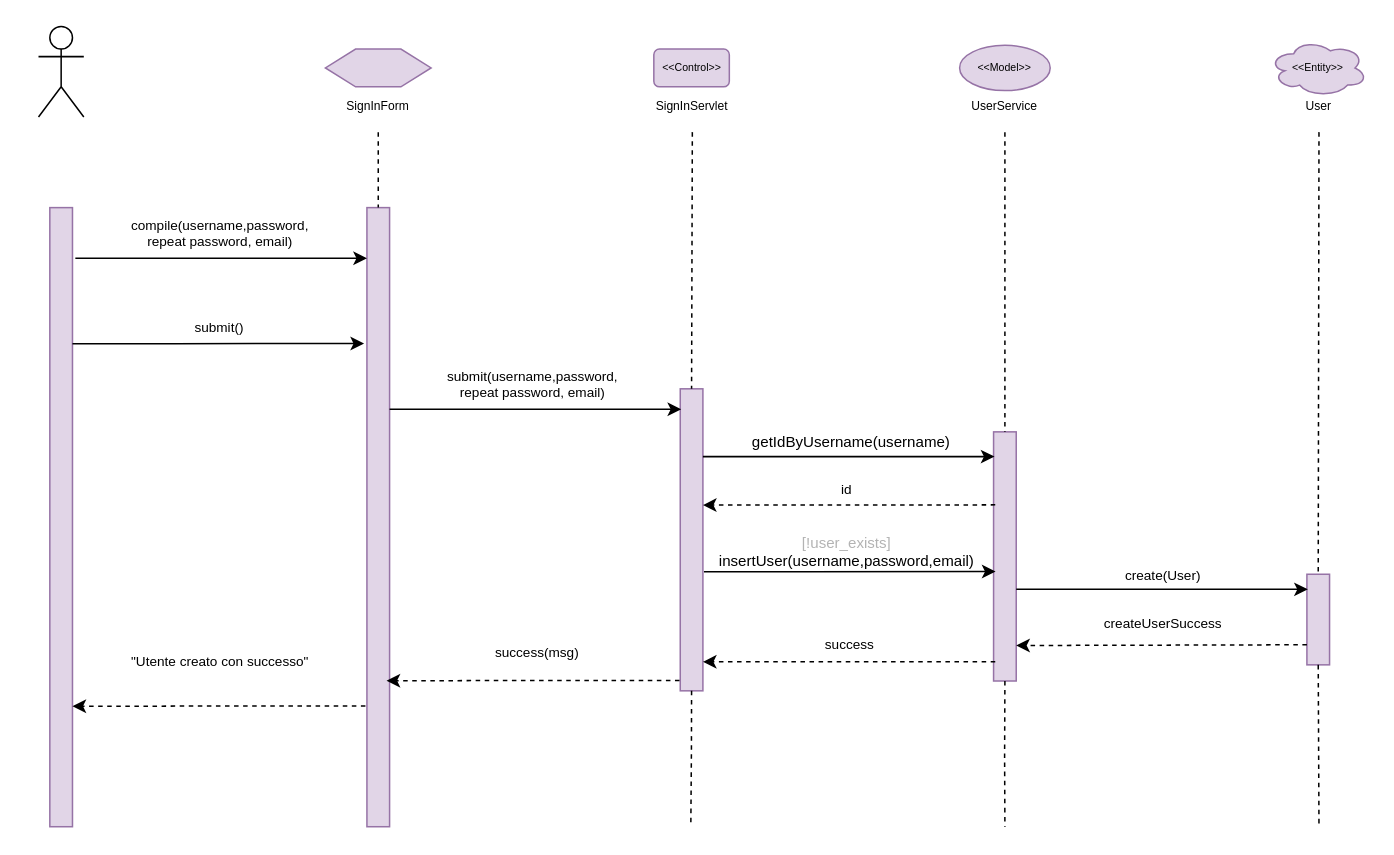
Image size: 1394x855. Some labels were removed from this diagram. Each missing label, with the box of its shape:
<<Boundary>>: (324, 48, 431, 87)
Giovanni: (37, 25, 84, 117)
